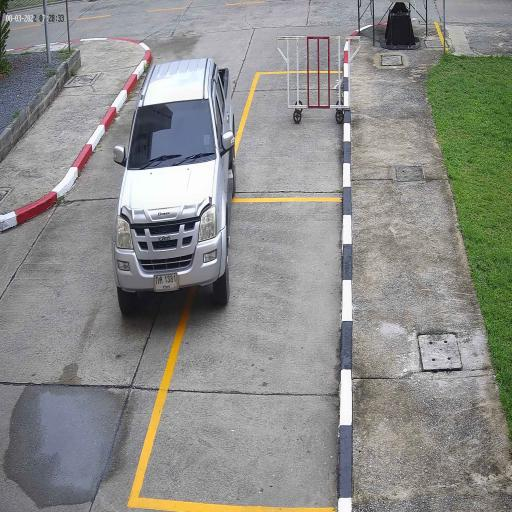car: (112, 58, 237, 320)
